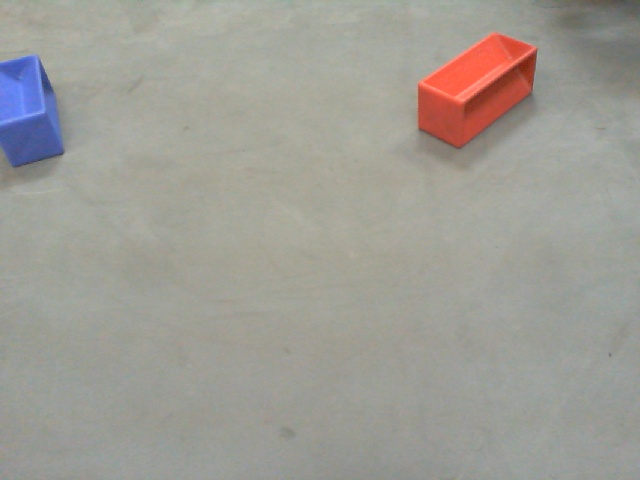BlueSample: (1, 52, 66, 167)
RedSample: (411, 29, 540, 155)
